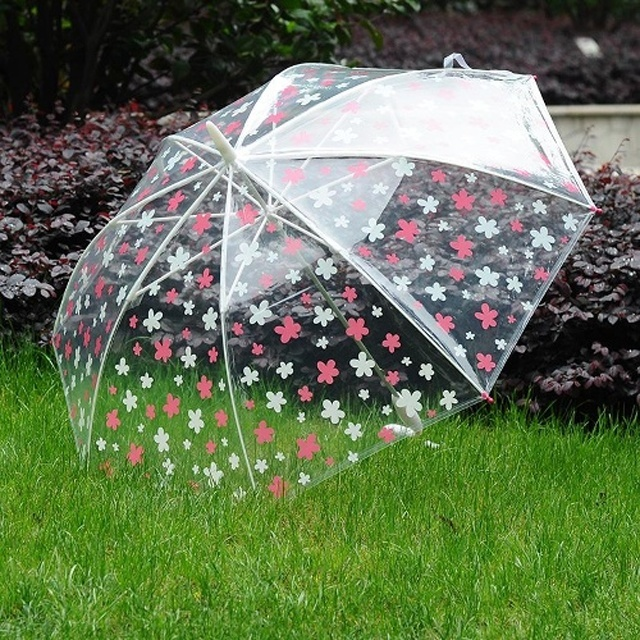umbrella: (48, 58, 603, 498)
